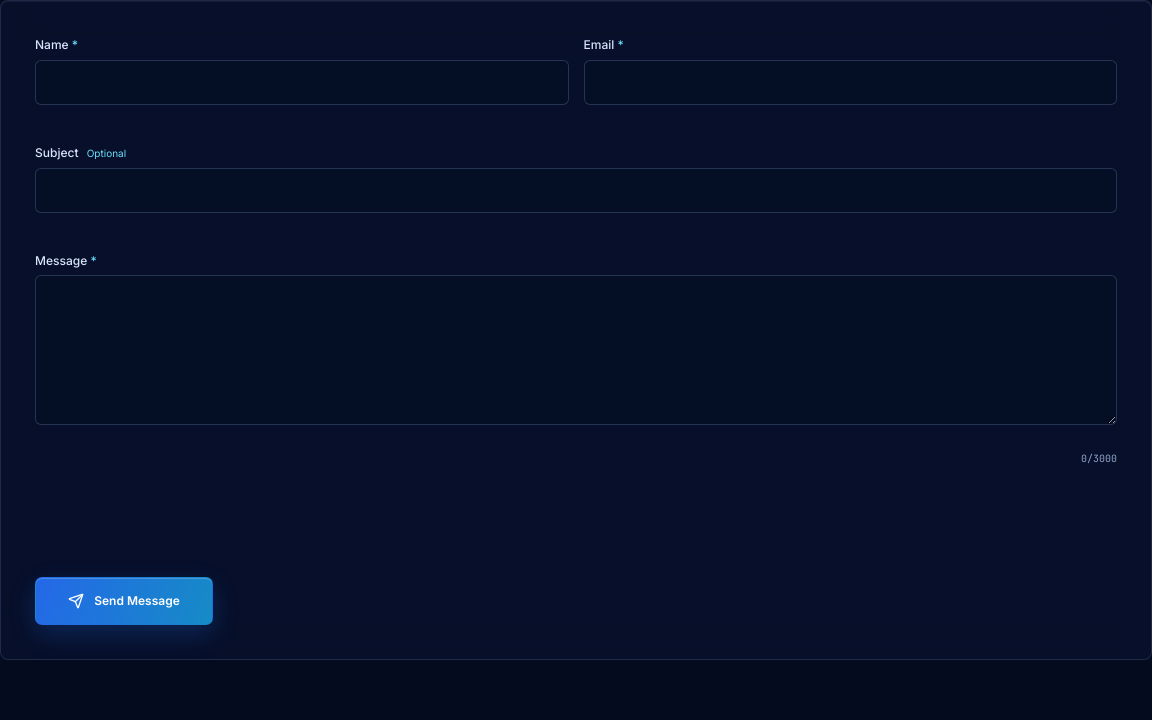
it: contact form › preserves entered text after a failed request
In the field labelled "Name *": {"x": 302, "y": 82} [35, 60, 568, 105], type "Taylor Example"
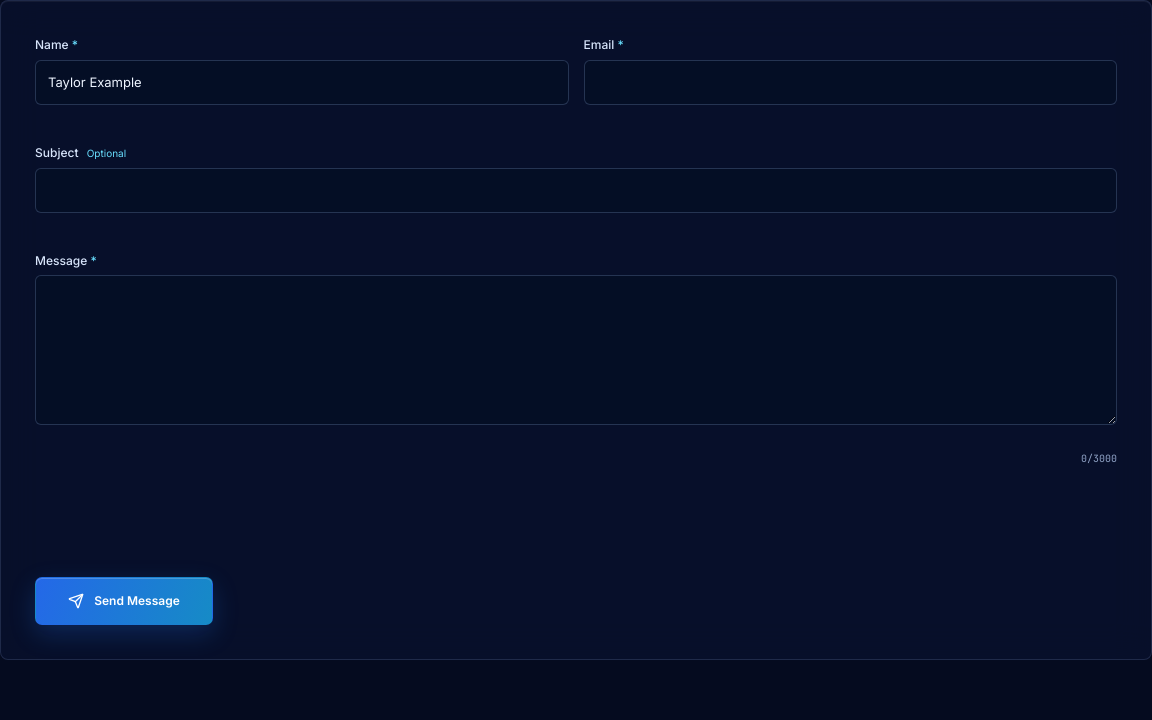
In the field labelled "Email *": {"x": 850, "y": 82} [584, 60, 1117, 105], type "taylor@example.test"
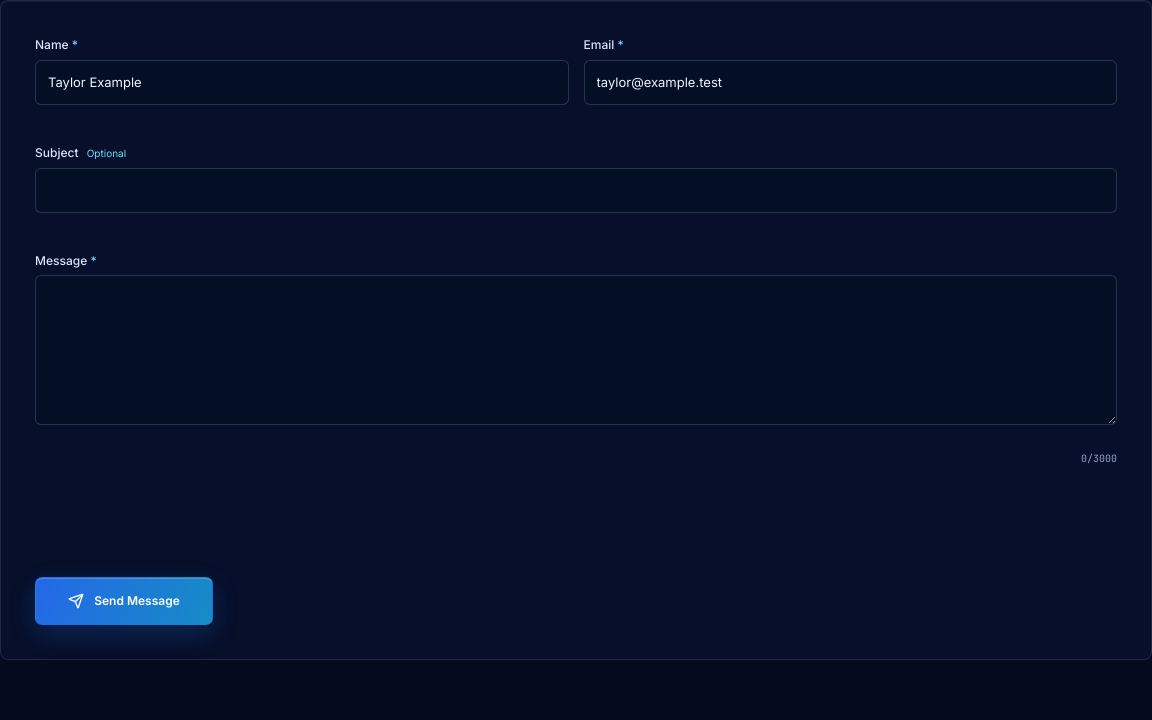
In the text box labelled "Message *": {"x": 576, "y": 350} [35, 275, 1117, 425], type "I would like to discuss a portfolio project."
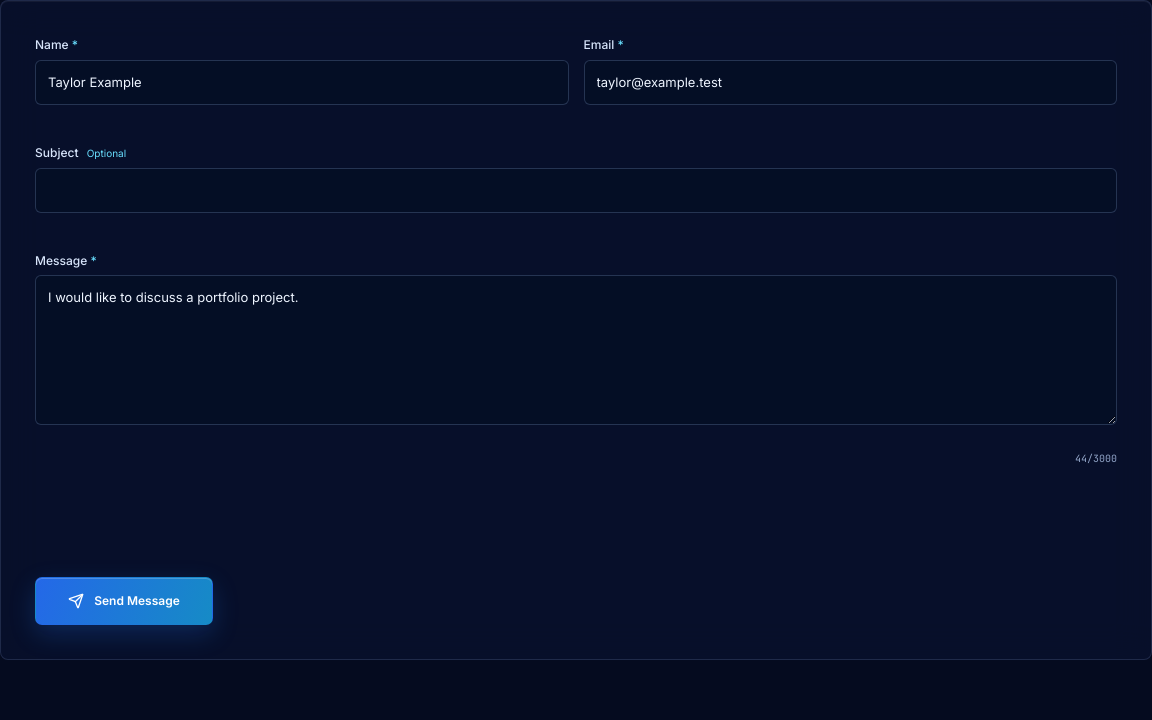
Click the button "Send Message": {"x": 124, "y": 601} [35, 577, 213, 625]
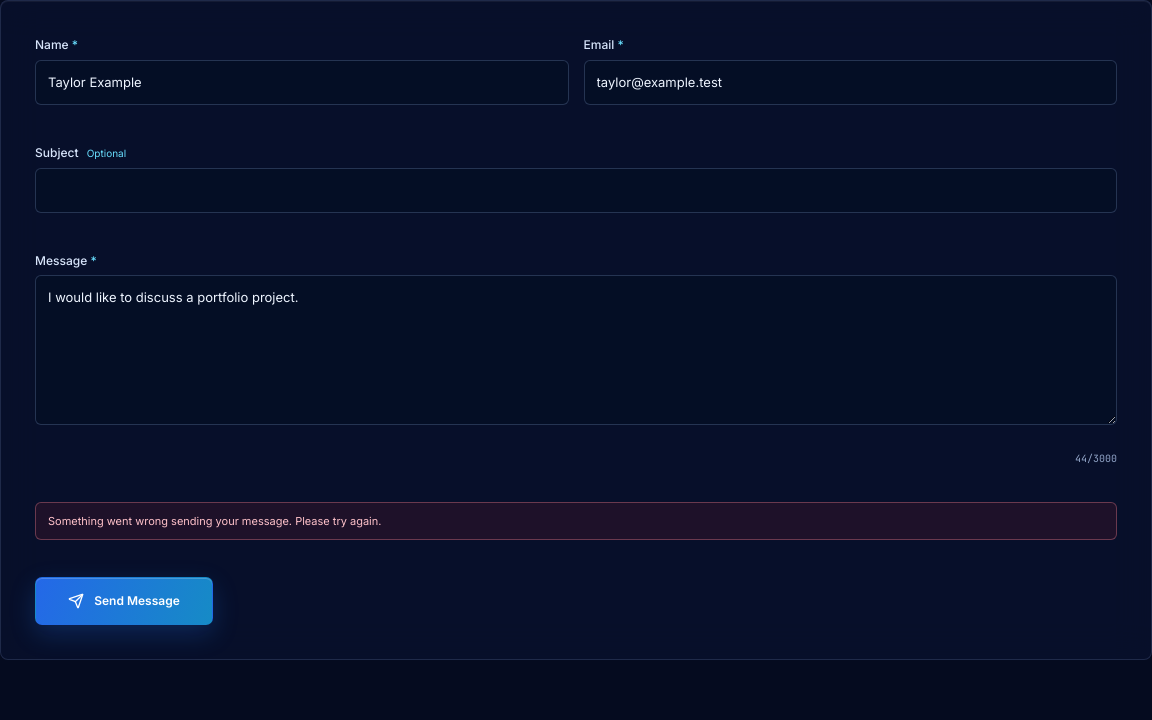
Expected: the message "Something went wrong sending your message. Please try again." is shown, [35, 502, 1117, 540]
